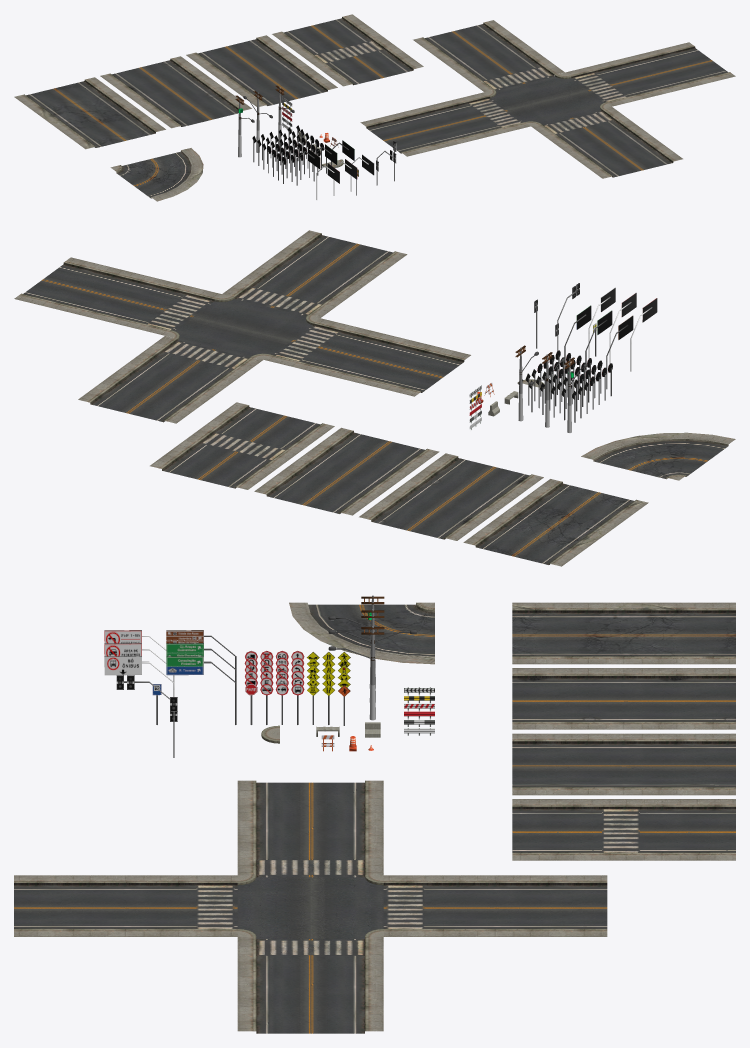
File: pack_de_ruas_lw3d_v2.glb
3 views of the same model, one above another, from view 1: azimuth 30°, elevation 25°; view 2: azimuth 150°, elevation 25°; view 3: azimuth 270°, elevation 25° (orthographic). The views are drawn at different scales.
Visible parts, largest first — view 1: Object_13, Object_14, Object_12, Object_4, Object_9, Object_8, Object_10; view 2: Object_13, Object_12, Object_14, Object_4, Object_9, Object_8, Object_10; view 3: Object_13, Object_14, Object_12, Object_4, Object_9, Object_10, Object_8, Object_7.
Part boxes in pixels (x1,y1,x2,y2): Object_13: (186,20,735,178); Object_14: (272,14,626,134); Object_12: (14,77,203,201); Object_4: (100,56,251,128); Object_9: (252,125,358,195); Object_8: (235,85,294,157); Object_10: (316,154,374,199); Object_13: (14,230,544,515); Object_12: (463,432,735,566); Object_14: (146,287,340,489); Object_4: (359,453,543,540); Object_9: (518,305,633,422); Object_8: (515,345,587,432); Object_10: (588,287,657,371); Object_13: (14,725,735,1033); Object_14: (196,799,735,955); Object_12: (289,602,735,664); Object_4: (512,668,735,729); Object_9: (152,630,350,725); Object_10: (104,630,174,696); Object_8: (328,595,416,720); Object_7: (404,687,434,735).
Size of the model in its own units: 65.51 by 6.61 by 46.62.
12 materials, 12 textured.
